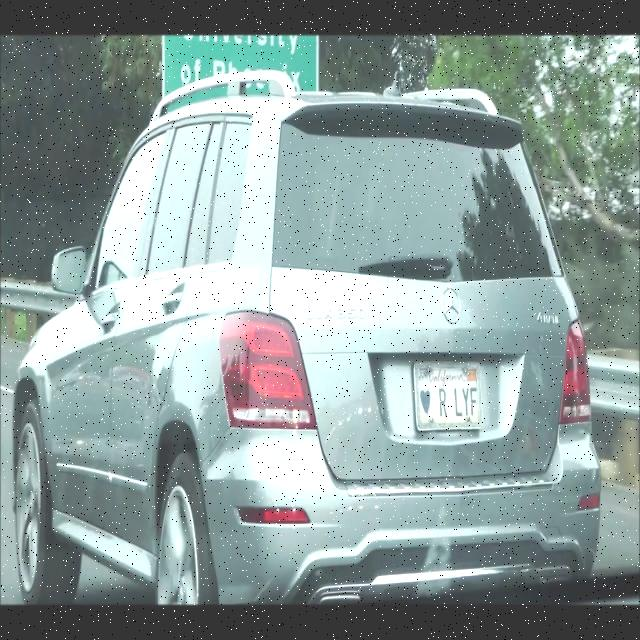licenseplate: (416, 359, 482, 432)
